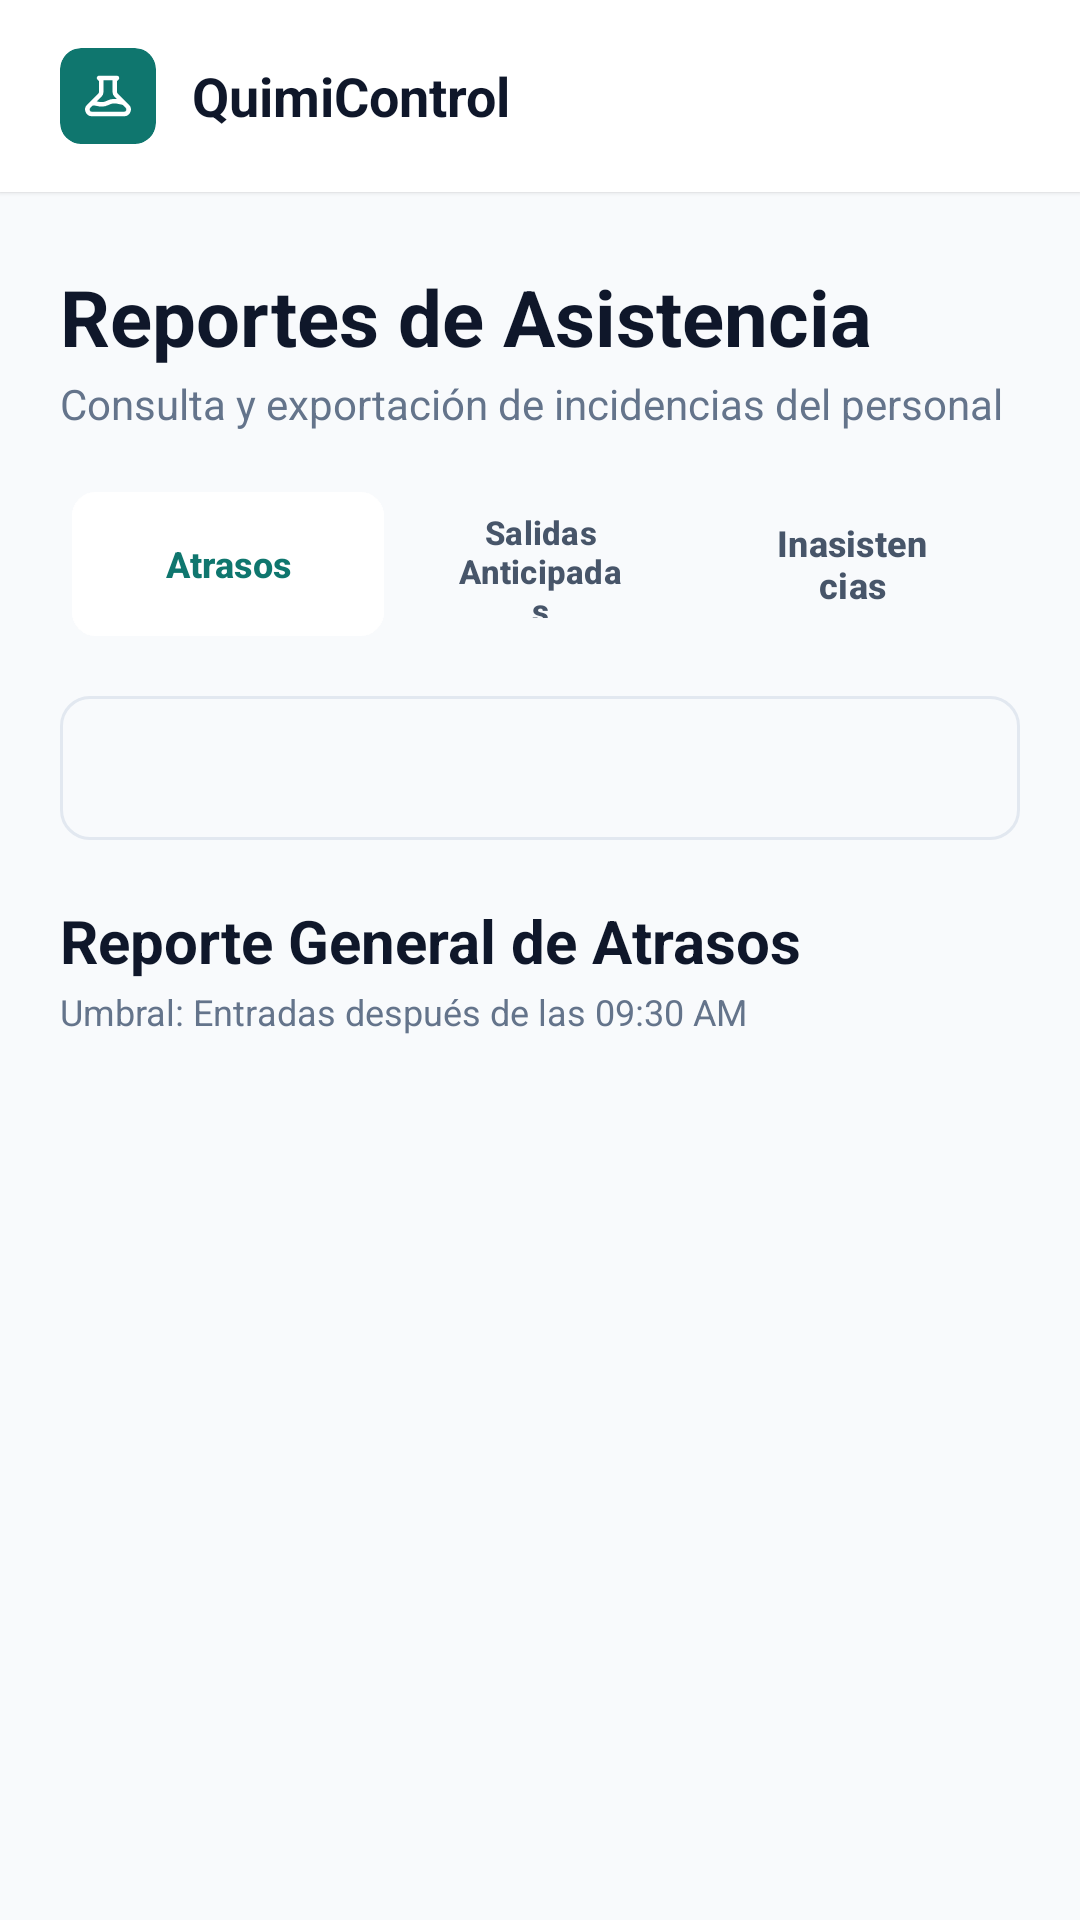

Where to tap for icons on this 1080×1920 app screen, as (x=x, y=y):
quimi flask: (x=108, y=96)
